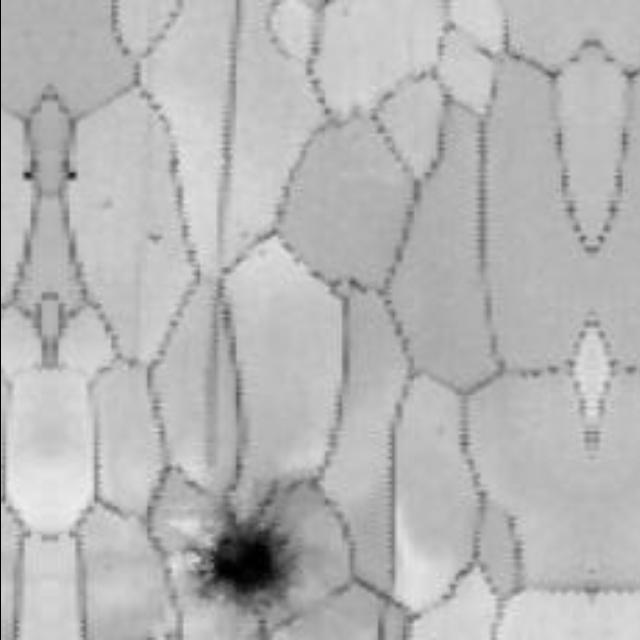good_void: (182, 478, 302, 612), (146, 227, 164, 245), (64, 168, 80, 183), (19, 168, 35, 183)
